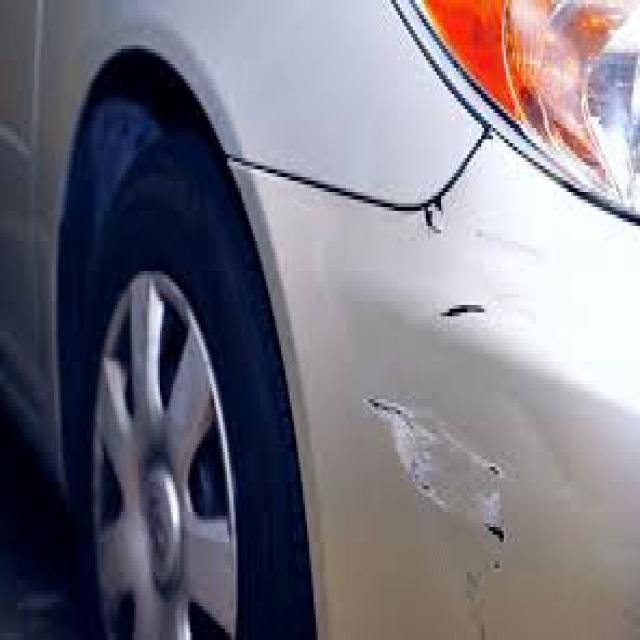scratch: (356, 375, 528, 575), (430, 294, 512, 328), (414, 194, 461, 237)
